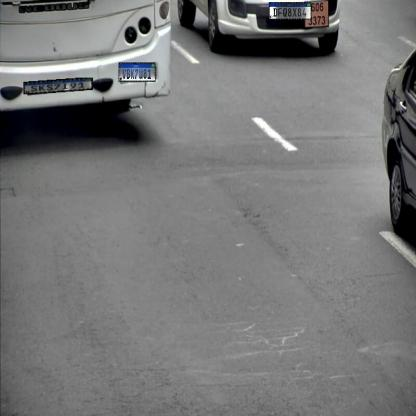PlacaM: (23, 78, 93, 94), (118, 62, 156, 82), (269, 2, 311, 19)
